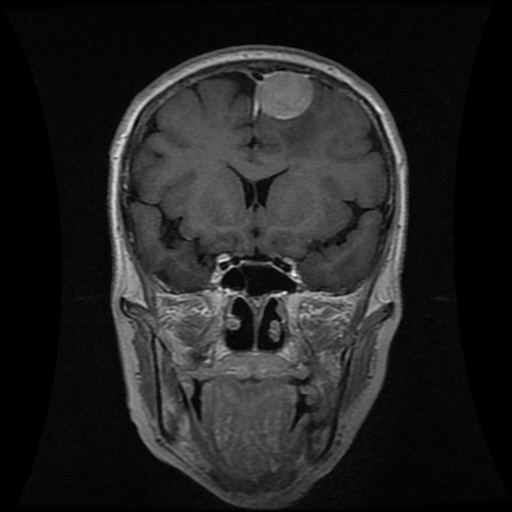meningioma: (259, 70, 311, 116)
